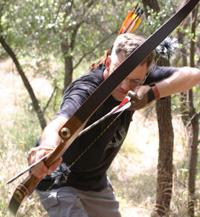person: (27, 31, 199, 215)
